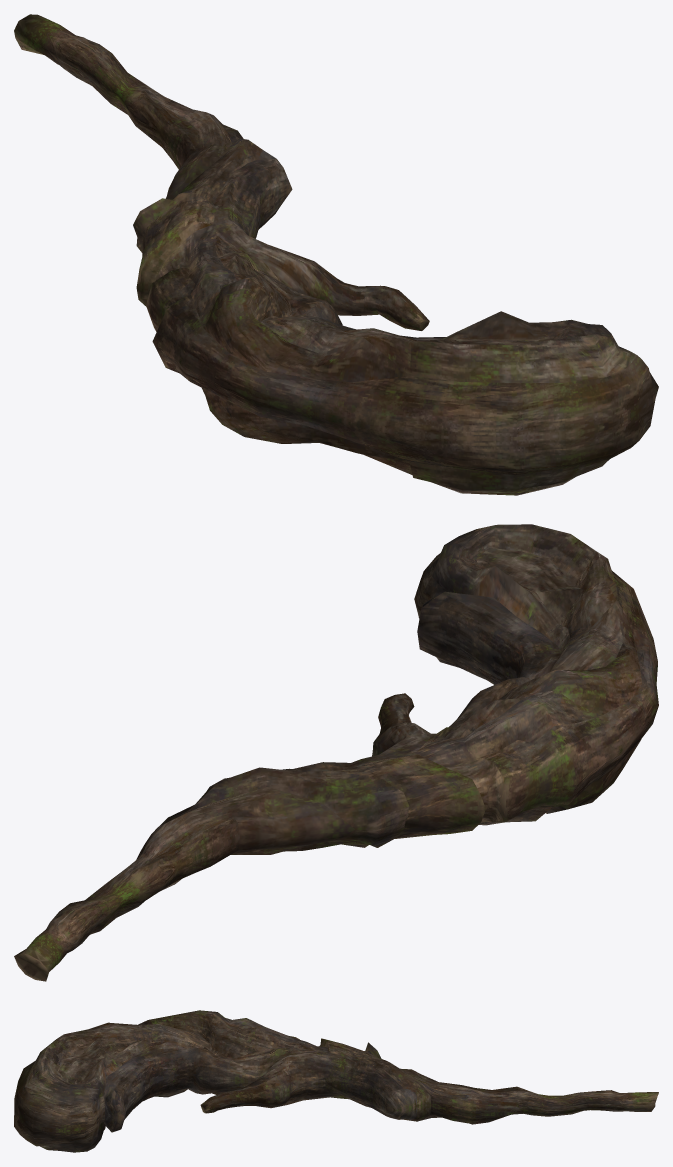
3 renders of one model, top to bottom at view 1: azimuth 30°, elevation 25°; view 2: azimuth 150°, elevation 25°; view 3: azimuth 270°, elevation 25°, orthographic. The views are drawn at different scales.
Visible parts, largest first — view 1: WP_A_0805; view 2: WP_A_0805; view 3: WP_A_0805.
Part boxes in pixels (bbox=[...]): WP_A_0805: bbox=[14, 14, 658, 495]; WP_A_0805: bbox=[14, 524, 658, 981]; WP_A_0805: bbox=[14, 1010, 658, 1152].
Size of the model in its own units: 33.21 by 14.19 by 94.46.
Materials: 1 (1 with a texture image).
